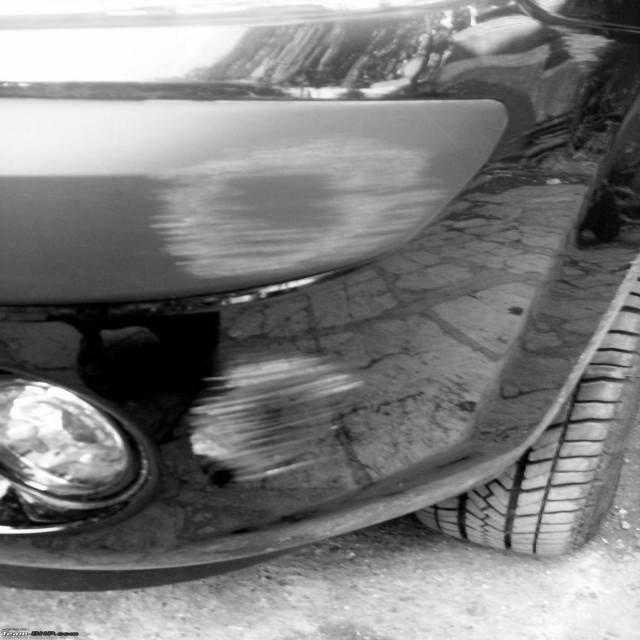front-bumper-dent: (5, 103, 607, 567)
